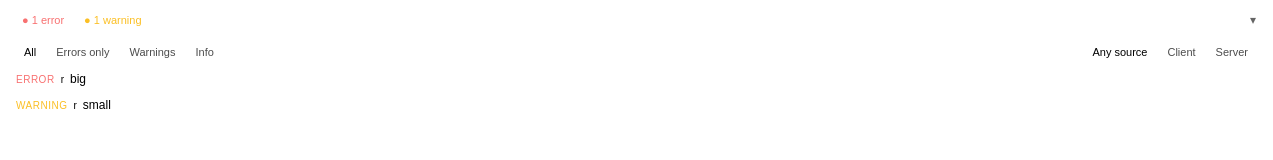
Test case: ValidationPanel › filters by severity when a chip is active
Click the button "Errors only" at (83,52), box 48,44 -> 117,60
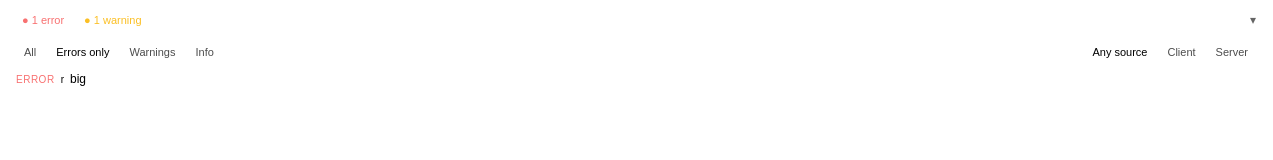
expect the text "big" is shown: met, box 70,72 -> 86,86
expect the button "small" is gone: met
